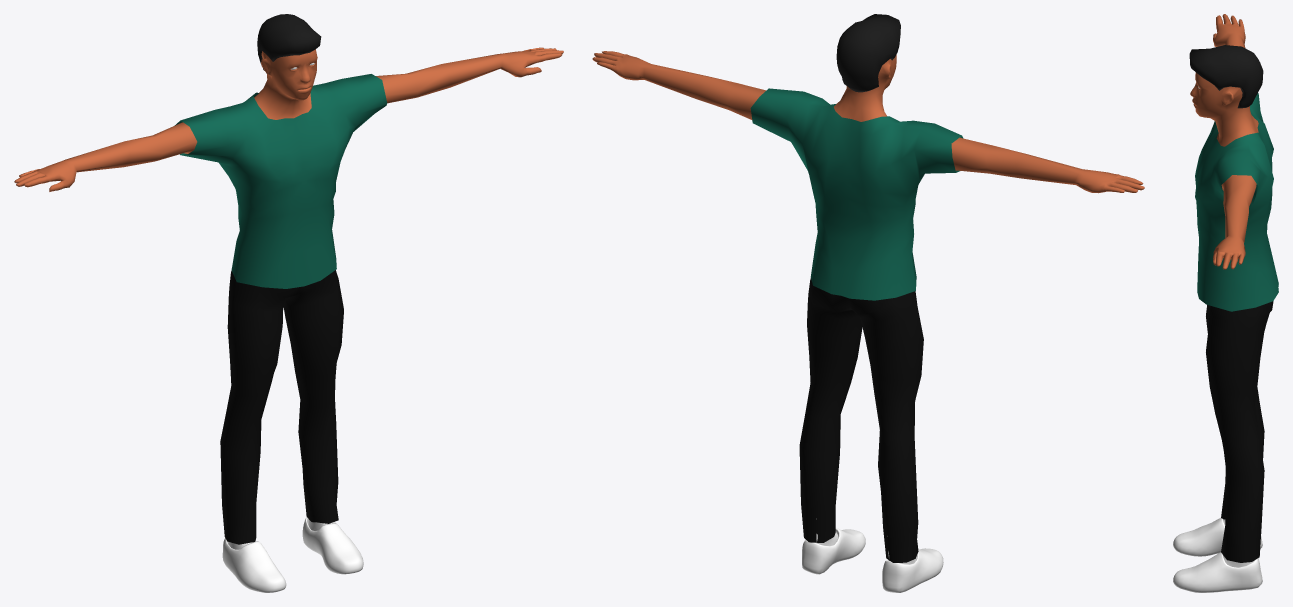
File: Man 5.obj
3 views of the same model, side by side, from view 1: azimuth 30°, elevation 25°; view 2: azimuth 150°, elevation 25°; view 3: azimuth 270°, elevation 25° (orthographic). The views are drawn at different scales.
Parts seen in each view (by area): view 1: Human:Male1591.001, Human:Male1591.002, Human:Male1591, Human:Shoes05, Human:Male1591.003_Human:Male1591.005; view 2: Human:Male1591.001, Human:Male1591.002, Human:Male1591, Human:Shoes05, Human:Male1591.003_Human:Male1591.005; view 3: Human:Male1591.002, Human:Male1591.001, Human:Male1591, Human:Shoes05, Human:Male1591.003_Human:Male1591.005.
Boxes of the visible parts, x1,y1,x2,y2 form: Human:Male1591.001: (174,74,387,288); Human:Male1591.002: (220,270,343,544); Human:Male1591: (14,47,563,191); Human:Shoes05: (222,517,363,592); Human:Male1591.003_Human:Male1591.005: (257,14,321,73); Human:Male1591.001: (750,88,963,300); Human:Male1591.002: (799,278,923,562); Human:Male1591: (592,51,1144,193); Human:Shoes05: (802,518,943,592); Human:Male1591.003_Human:Male1591.005: (836,14,900,92); Human:Male1591.002: (1206,301,1273,562); Human:Male1591.001: (1195,93,1278,311); Human:Male1591: (1190,14,1258,269); Human:Shoes05: (1173,518,1262,592); Human:Male1591.003_Human:Male1591.005: (1189,45,1263,108).
Size of the model in its own units: 19.93 by 19.06 by 3.51.
